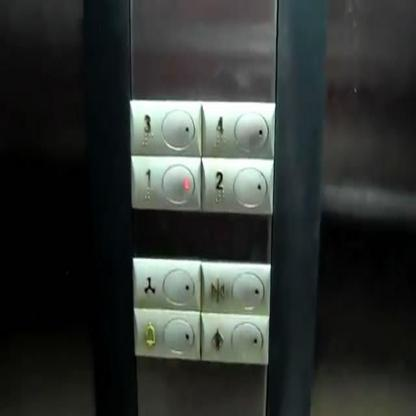1: (128, 152, 203, 214)
2: (200, 153, 274, 217)
3: (127, 95, 203, 160)
4: (200, 95, 276, 160)
alarm: (130, 304, 202, 362)
close: (197, 256, 271, 319)
fan: (131, 252, 202, 313)
open: (198, 306, 270, 367)
